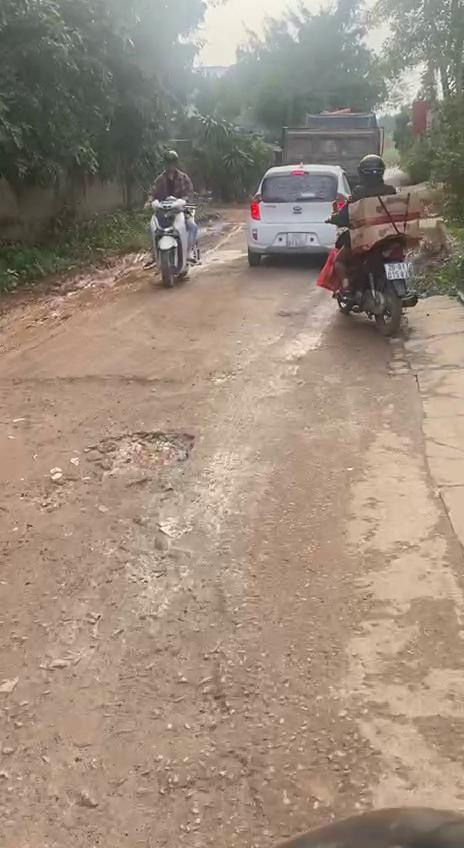pothole: (0, 428, 200, 546), (0, 366, 217, 450)
